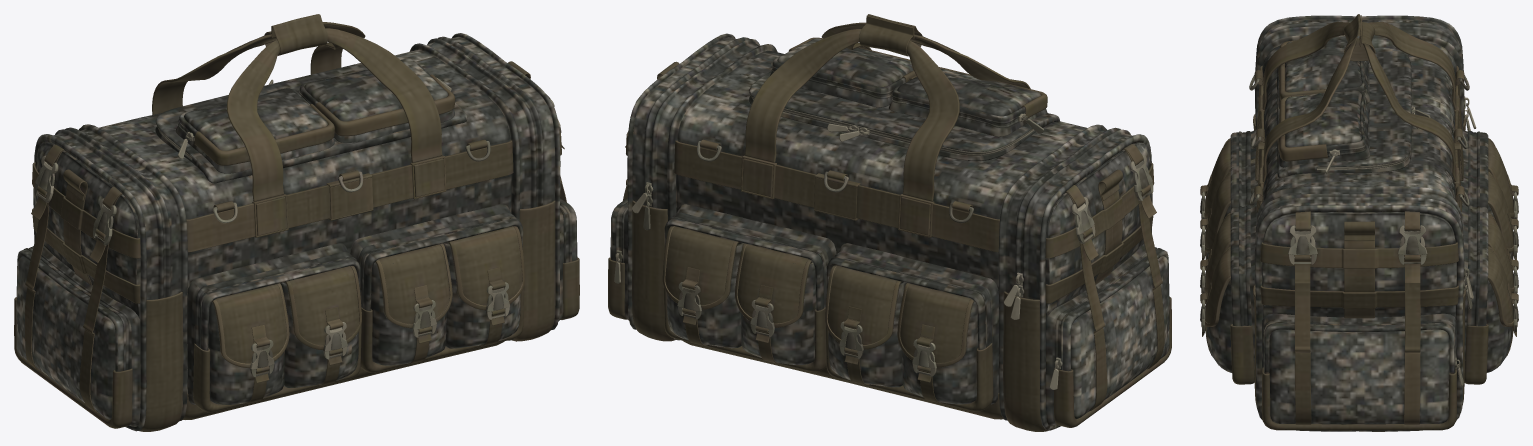
File: bag_duffle.glb
3 views of the same model, side by side, from view 1: azimuth 30°, elevation 25°; view 2: azimuth 150°, elevation 25°; view 3: azimuth 270°, elevation 25° (orthographic). The views are drawn at different scales.
Parts seen in each view (by area): view 1: strap_001_mesh.012, pouch_001_mesh.006, main_mesh.006, cover_001_mesh.008, buckle_001_mesh.012, base_mesh; view 2: strap_001_mesh.012, main_mesh.006, pouch_001_mesh.006, cover_001_mesh.008, buckle_001_mesh.012, zipper_001_mesh.004, base_mesh, slider_001_mesh.003; view 3: pouch_001_mesh.006, strap_001_mesh.012, main_mesh.006, cover_001_mesh.008, buckle_001_mesh.012, zipper_001_mesh.004, slider_001_mesh.003.
Part boxes in pixels (x1,y1,x2,y2): strap_001_mesh.012: (14, 14, 579, 431); pouch_001_mesh.006: (16, 59, 577, 426); main_mesh.006: (33, 33, 560, 431); cover_001_mesh.008: (212, 226, 524, 367); buckle_001_mesh.012: (34, 99, 561, 377); base_mesh: (182, 341, 504, 419); strap_001_mesh.012: (608, 14, 1171, 431); main_mesh.006: (627, 33, 1152, 430); pouch_001_mesh.006: (610, 38, 1169, 426); cover_001_mesh.008: (662, 226, 974, 367); buckle_001_mesh.012: (635, 99, 1153, 376); zipper_001_mesh.004: (614, 62, 1058, 389); base_mesh: (683, 341, 1003, 419); slider_001_mesh.003: (615, 113, 1062, 368); pouch_001_mesh.006: (1206, 36, 1512, 424); strap_001_mesh.012: (1200, 14, 1518, 431); main_mesh.006: (1254, 15, 1464, 431); cover_001_mesh.008: (1204, 138, 1514, 326); buckle_001_mesh.012: (1200, 75, 1518, 331); zipper_001_mesh.004: (1317, 103, 1476, 385); slider_001_mesh.003: (1329, 96, 1469, 369).
Size of the model in its own units: 1.03 by 0.6865 by 0.6194.
8 materials, 8 textured.
